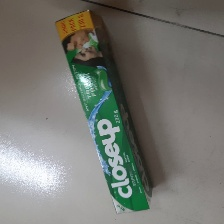CloseUp Xanh: (55, 9, 154, 214)
